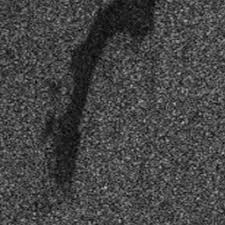anomaly: (27, 16, 179, 188)
